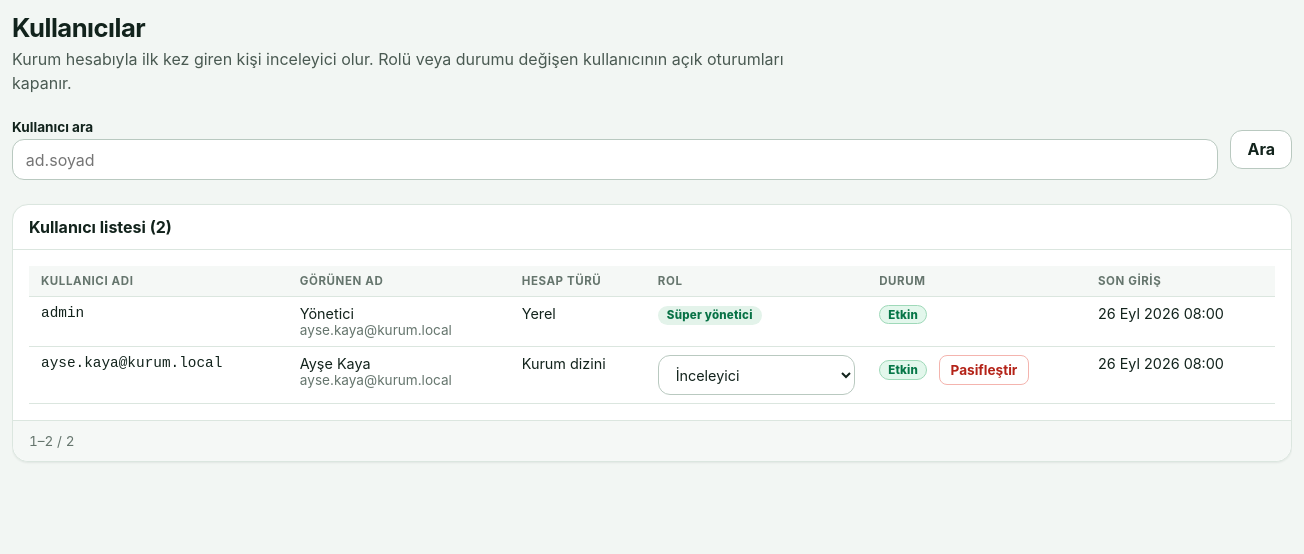
user administration page › changes the role and reports it
Select "Kural yöneticisi" in the dropdown named "ayse.kaya@kurum.local rolü". click: (756, 375)
box: 658,355 -> 855,395
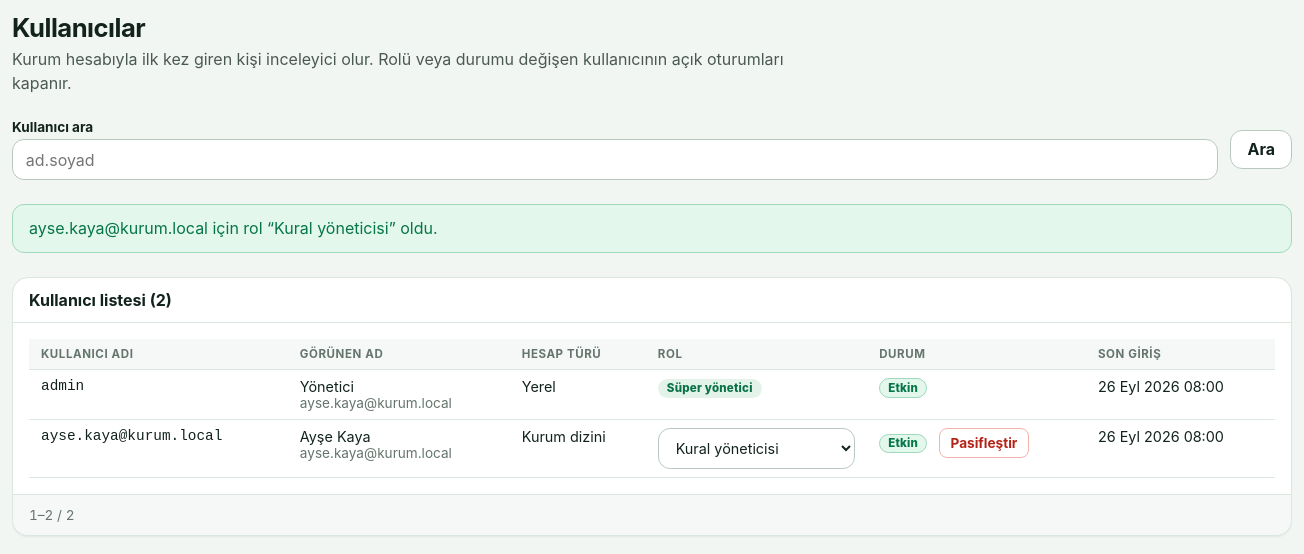
Now the text "ayse.kaya@kurum.local için rol “Kural yöneticisi” oldu." is shown, box 12,204 -> 1292,253
